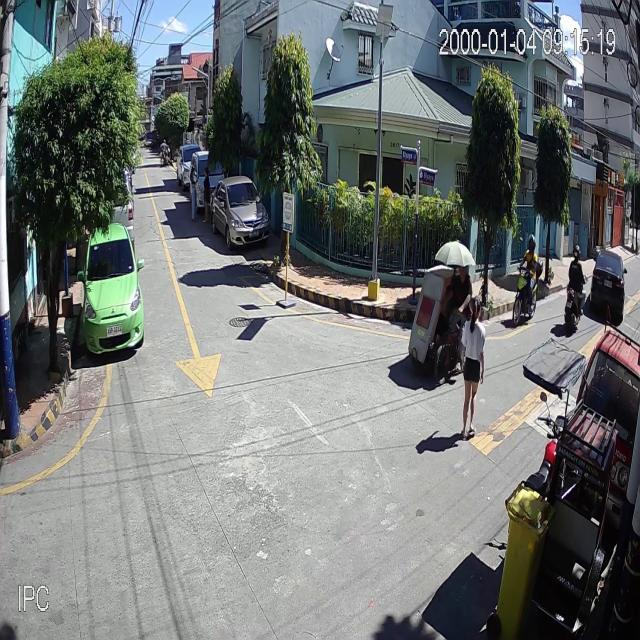standing: (188, 166, 201, 221), (202, 166, 213, 223), (159, 139, 167, 165)
walking: (459, 296, 486, 442)
